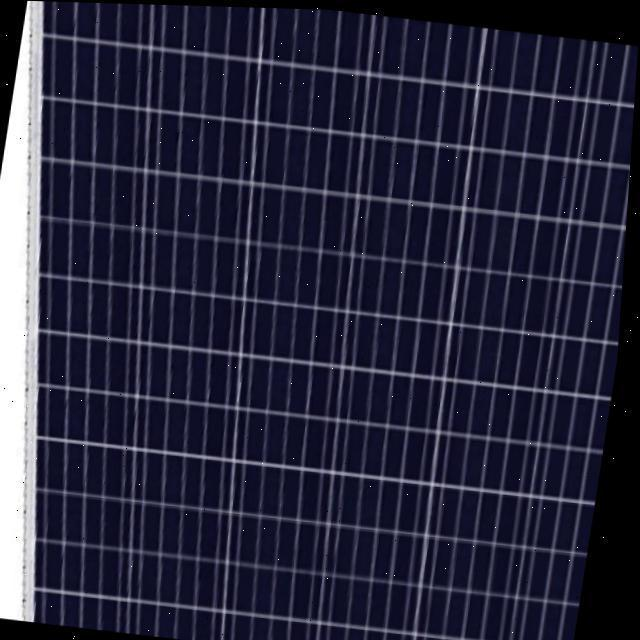Normal Solar Panel: (0, 1, 639, 640)
